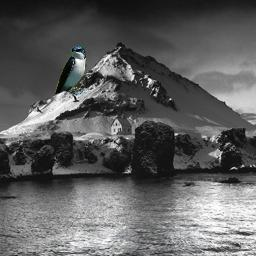Swallow: (55, 45, 87, 96)
